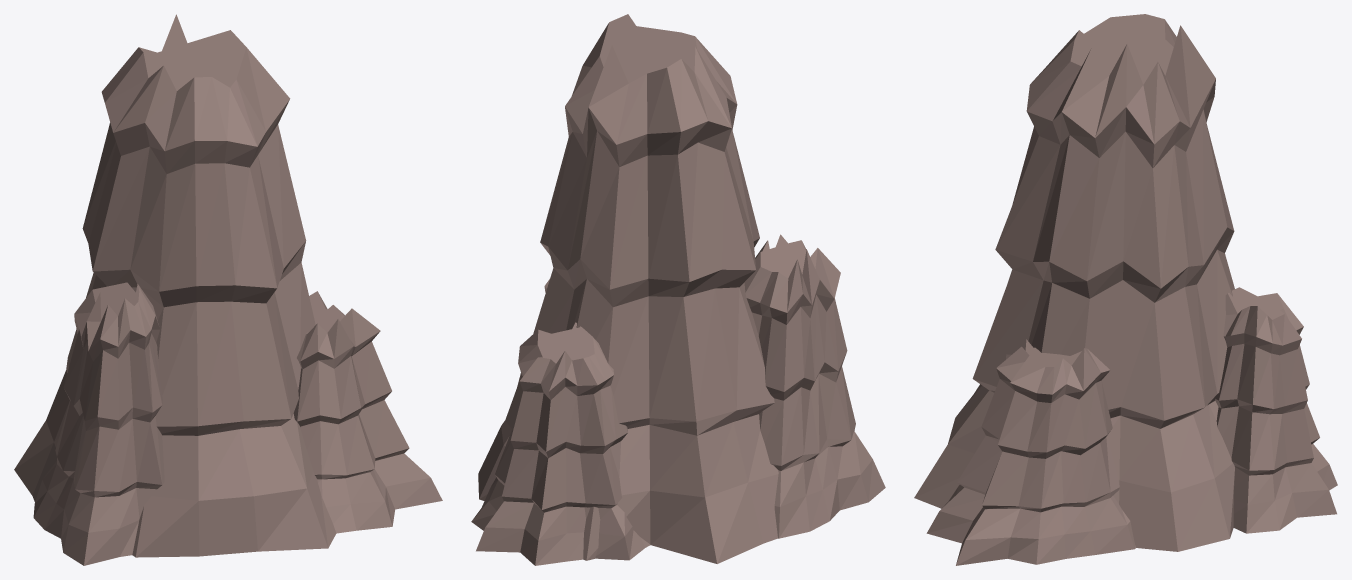
The model's file is mesa_2.glb.
3 renders of one model, left to right at view 1: azimuth 30°, elevation 25°; view 2: azimuth 150°, elevation 25°; view 3: azimuth 270°, elevation 25°, orthographic. The views are drawn at different scales.
Visible parts, largest first — view 1: Broken main crown; view 2: Broken main crown; view 3: Broken main crown.
Part boxes in pixels (bbox=[...]): Broken main crown: bbox=[14, 14, 442, 565]; Broken main crown: bbox=[471, 14, 885, 565]; Broken main crown: bbox=[914, 14, 1337, 565].
Bounding box in the file's own units: 24.89 × 31.36 × 26.12.
